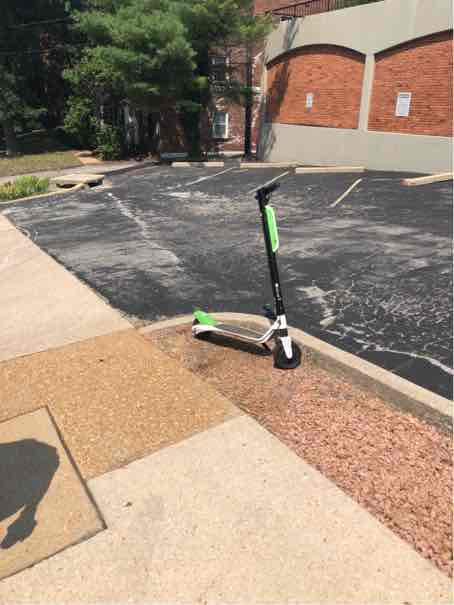scooter: (187, 169, 298, 366)
